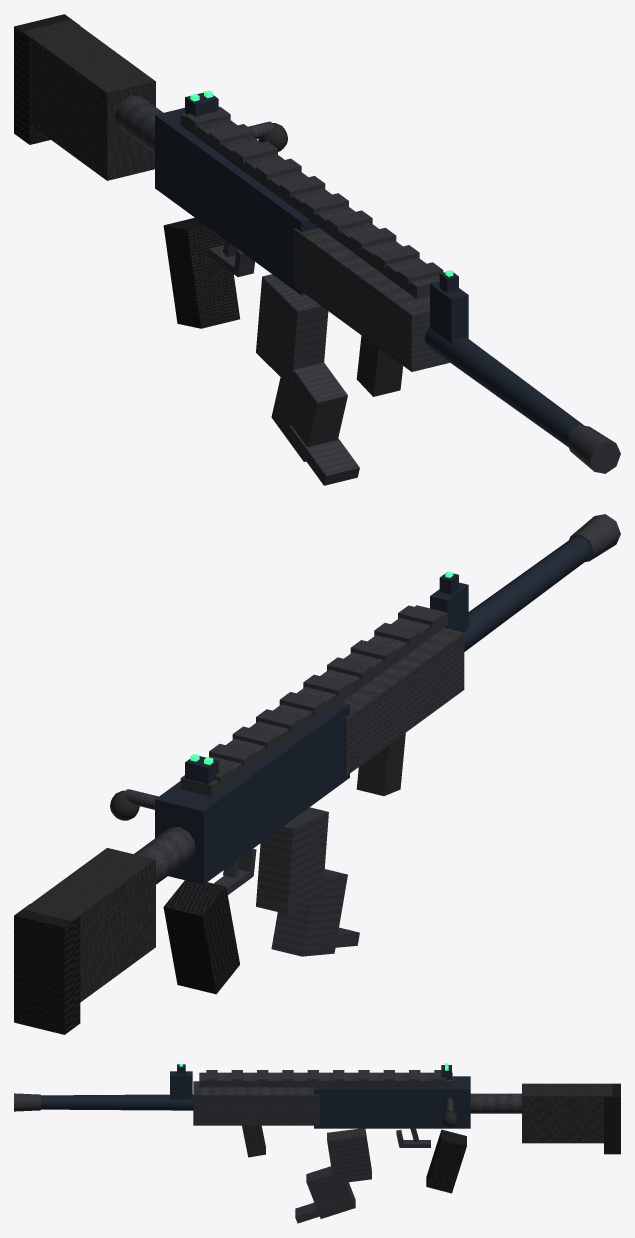
The picture shows the model from 3 angles, top to bottom: view 1: azimuth 30°, elevation 25°; view 2: azimuth 150°, elevation 25°; view 3: azimuth 270°, elevation 25°; orthographic projection. The views are drawn at different scales.
Visible parts, largest first — view 1: weapon_m4a1, MagazineNode, BoltHandleNode; view 2: weapon_m4a1, MagazineNode, BoltHandleNode; view 3: weapon_m4a1, MagazineNode, BoltHandleNode.
Boxes of the visible parts, x1=… form: weapon_m4a1: x1=14, y1=14, x2=620, y2=473; MagazineNode: x1=256, y1=274, x2=359, y2=485; BoltHandleNode: x1=248, y1=121, x2=287, y2=151; weapon_m4a1: x1=14, y1=514, x2=620, y2=1034; MagazineNode: x1=256, y1=807, x2=359, y2=956; BoltHandleNode: x1=110, y1=789, x2=158, y2=820; weapon_m4a1: x1=14, y1=1063, x2=620, y2=1193; MagazineNode: x1=295, y1=1128, x2=371, y2=1223; BoltHandleNode: x1=442, y1=1098, x2=457, y2=1127.
Bounding box in the file's own units: 0.1165 × 0.2836 × 1.01.
Materials: 5 (3 with a texture image).
